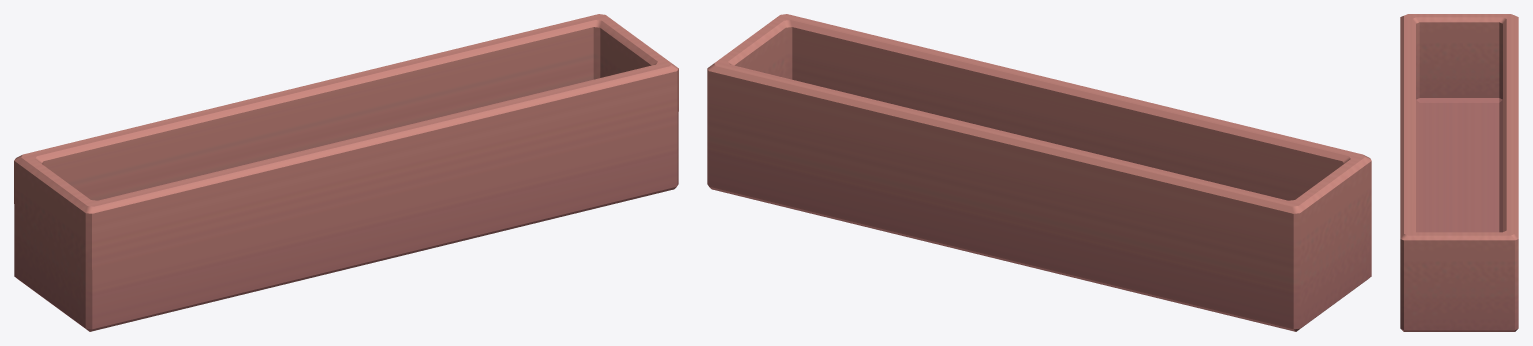
The model's file is Tub.fbx.
The picture shows the model from 3 angles, left to right: view 1: azimuth 30°, elevation 25°; view 2: azimuth 150°, elevation 25°; view 3: azimuth 270°, elevation 25°; orthographic projection. The views are drawn at different scales.
Parts seen in each view (by area): view 1: pCube21; view 2: pCube21; view 3: pCube21.
Part boxes in pixels (x1,y1,x2,y2): pCube21: (14,14,678,331); pCube21: (707,14,1371,331); pCube21: (1400,14,1518,331).
Bounding box in the file's own units: 50 × 10 × 11.14.
Materials: 1 (1 with a texture image).
